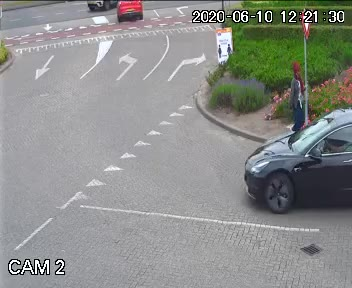car: (239, 91, 352, 228), (114, 2, 144, 23)
